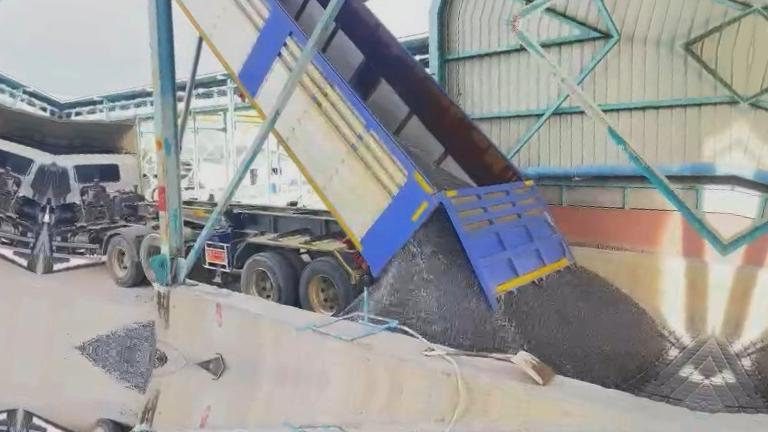gravel: (369, 209, 670, 387), (399, 141, 473, 189), (73, 321, 157, 358)
